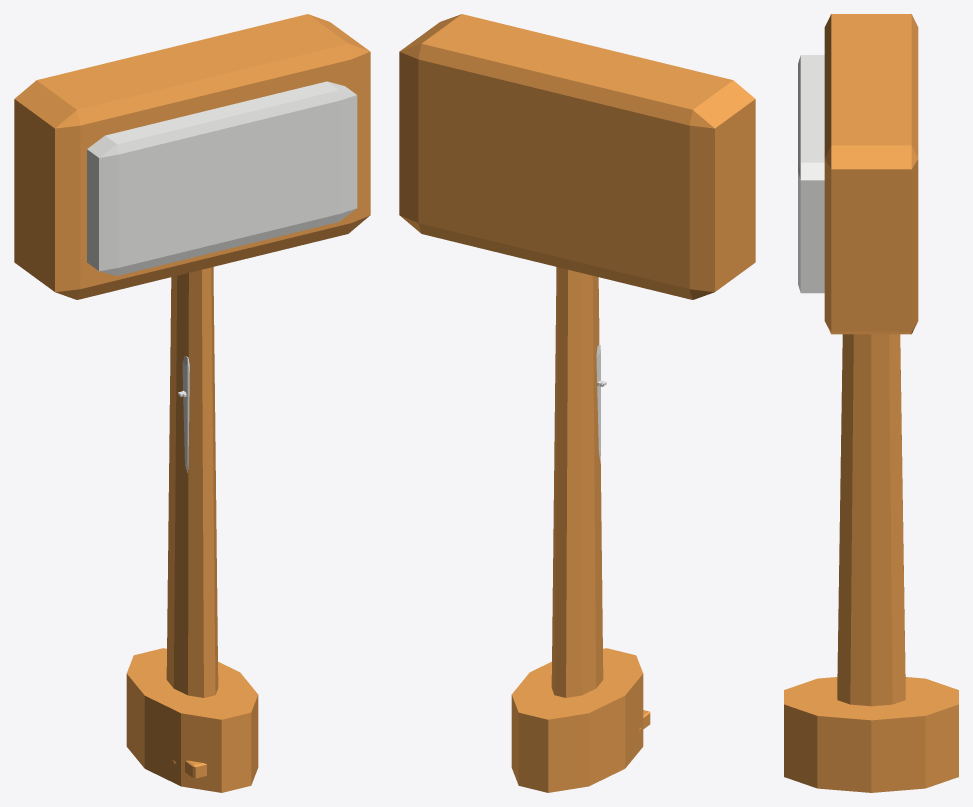
Rendered from b02_construction_detour_sign.glb.
3 renders of one model, left to right at view 1: azimuth 30°, elevation 25°; view 2: azimuth 150°, elevation 25°; view 3: azimuth 270°, elevation 25°, orthographic.
Parts seen in each view (by area): view 1: b02_construction_detour_sign; view 2: b02_construction_detour_sign; view 3: b02_construction_detour_sign.
Boxes of the visible parts, <box> form: b02_construction_detour_sign: <box>14,14,370,792</box>; b02_construction_detour_sign: <box>399,14,755,792</box>; b02_construction_detour_sign: <box>784,14,958,792</box>.
Bounding box in the file's own units: 1.03 × 2.18 × 0.5.
